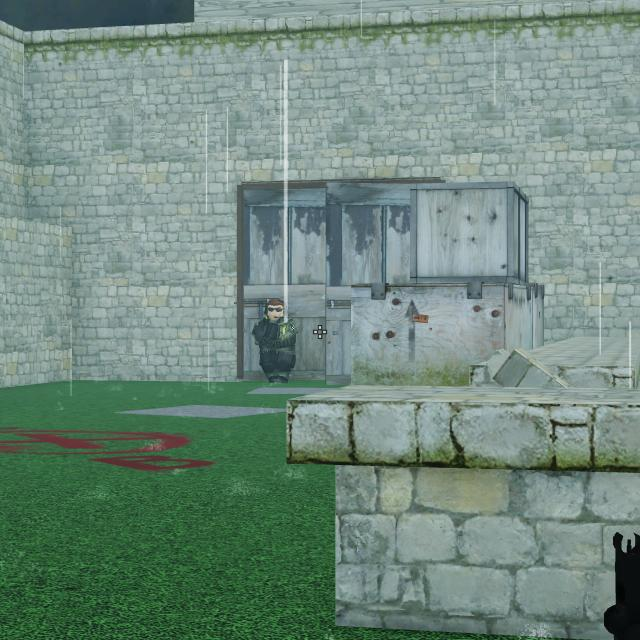Head: (266, 300, 285, 319)
Player: (253, 300, 297, 384)
